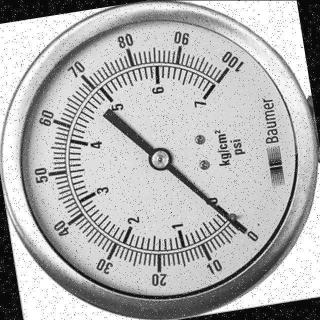gauge: (0, 0, 320, 320), (206, 52, 246, 90), (231, 216, 259, 246), (146, 146, 172, 171), (232, 218, 249, 236)
